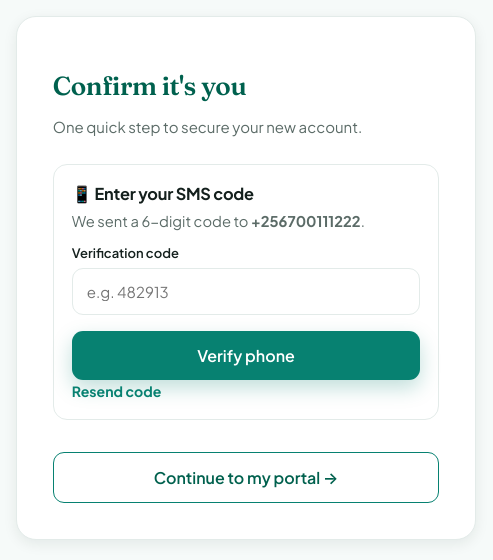
it: Given account confirmation › when a registered phone user enters the right OTP, then the phone is verified
Type "482913" into the field labelled "Verification code" at (246, 292), box 72,268 -> 420,315
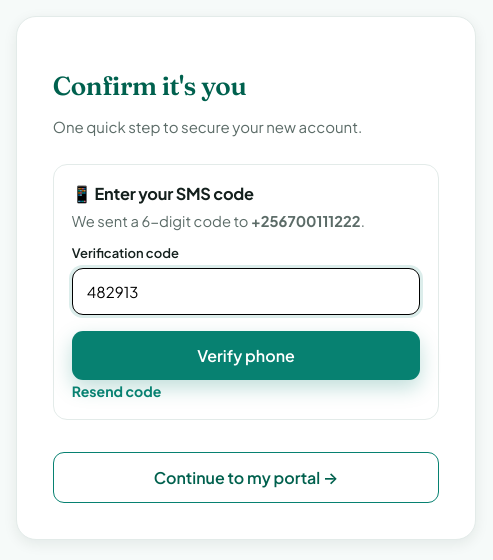
Click the button "Verify phone" at (246, 356), box 72,331 -> 420,380
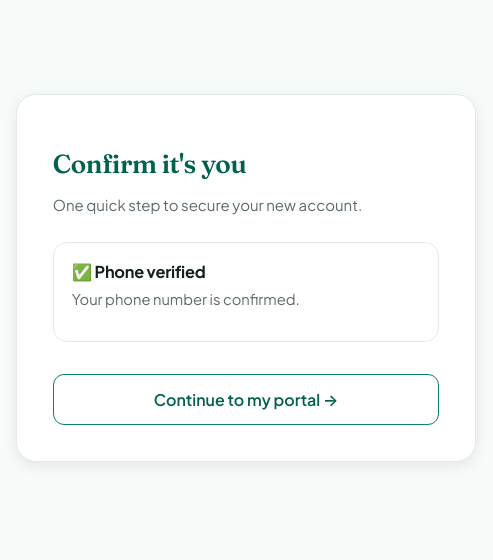
Check: the heading "✅ Phone verified" is shown, box 72,261 -> 205,282
